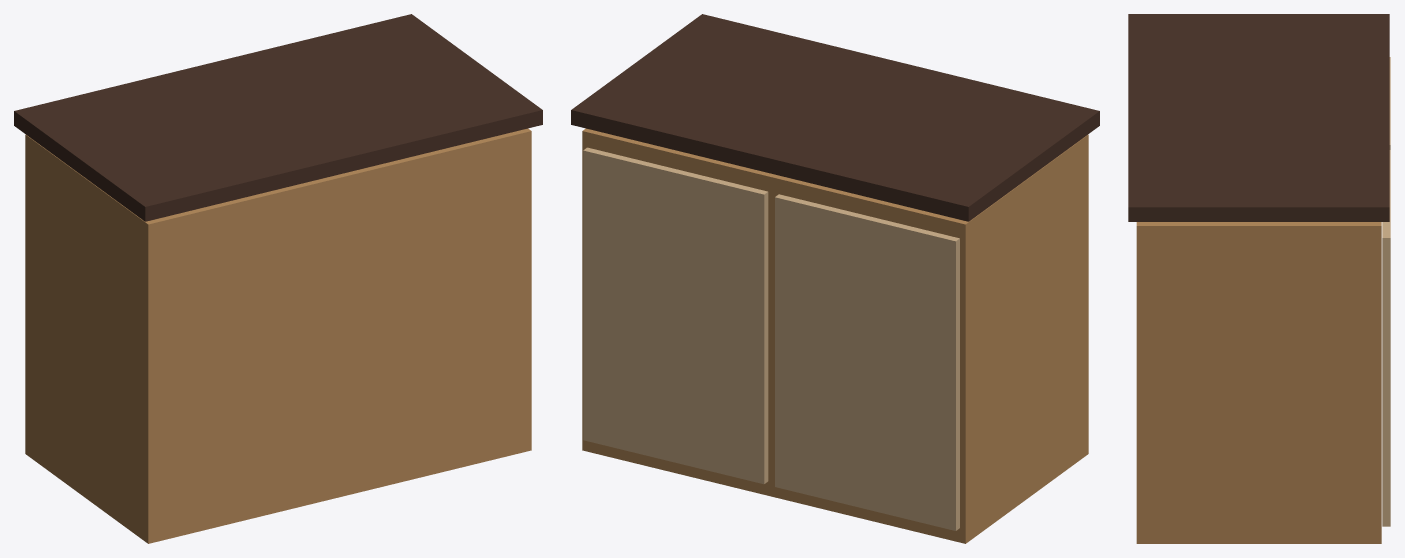
3 renders of one model, left to right at view 1: azimuth 30°, elevation 25°; view 2: azimuth 150°, elevation 25°; view 3: azimuth 270°, elevation 25°, orthographic.
Parts seen in each view (by area): view 1: mueble_cocina_sur; view 2: mueble_cocina_sur; view 3: mueble_cocina_sur.
Boxes of the visible parts, x1,y1,x2,y2 form: mueble_cocina_sur: (14, 14, 542, 543); mueble_cocina_sur: (571, 14, 1099, 543); mueble_cocina_sur: (1128, 14, 1390, 543).
Bounding box in the file's own units: 1.12 × 0.642 × 0.92.
